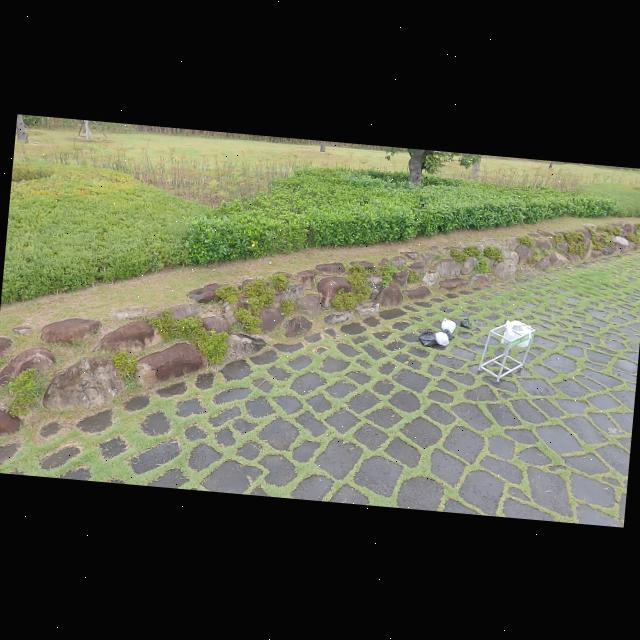trash: (428, 328, 454, 351), (416, 328, 438, 352), (456, 312, 476, 330), (439, 315, 456, 333)
